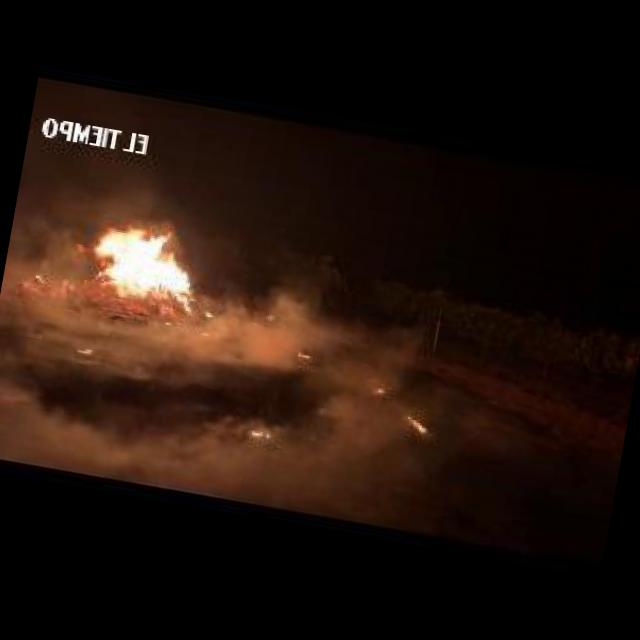fire: (88, 212, 220, 314), (405, 416, 433, 436), (245, 426, 265, 436), (298, 348, 314, 358), (205, 308, 215, 320), (375, 383, 385, 393)
smoke: (0, 360, 206, 489), (178, 262, 310, 392)
